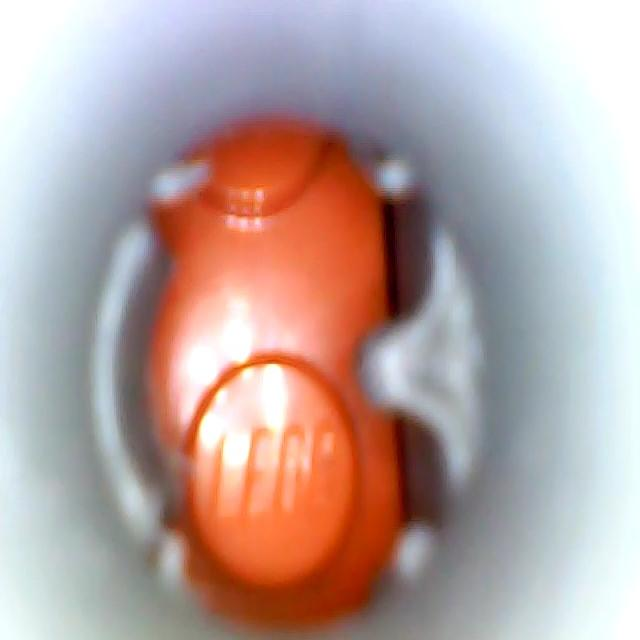studs: (190, 361, 356, 588), (202, 121, 327, 215)
